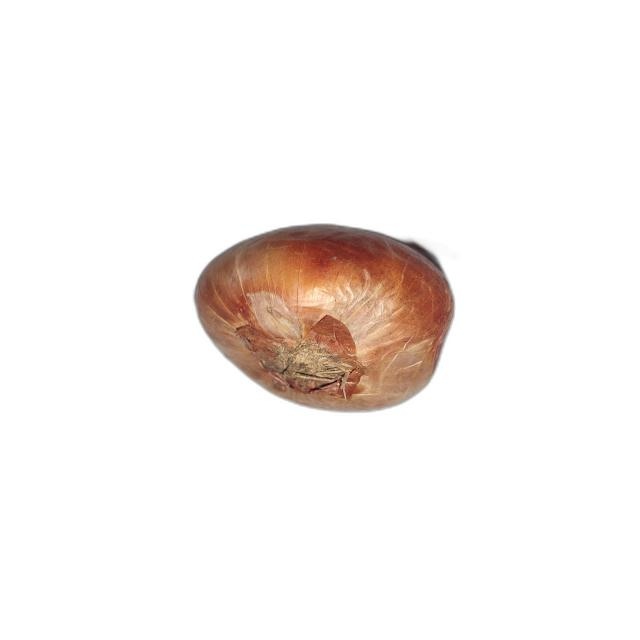onion: (195, 223, 456, 414)
